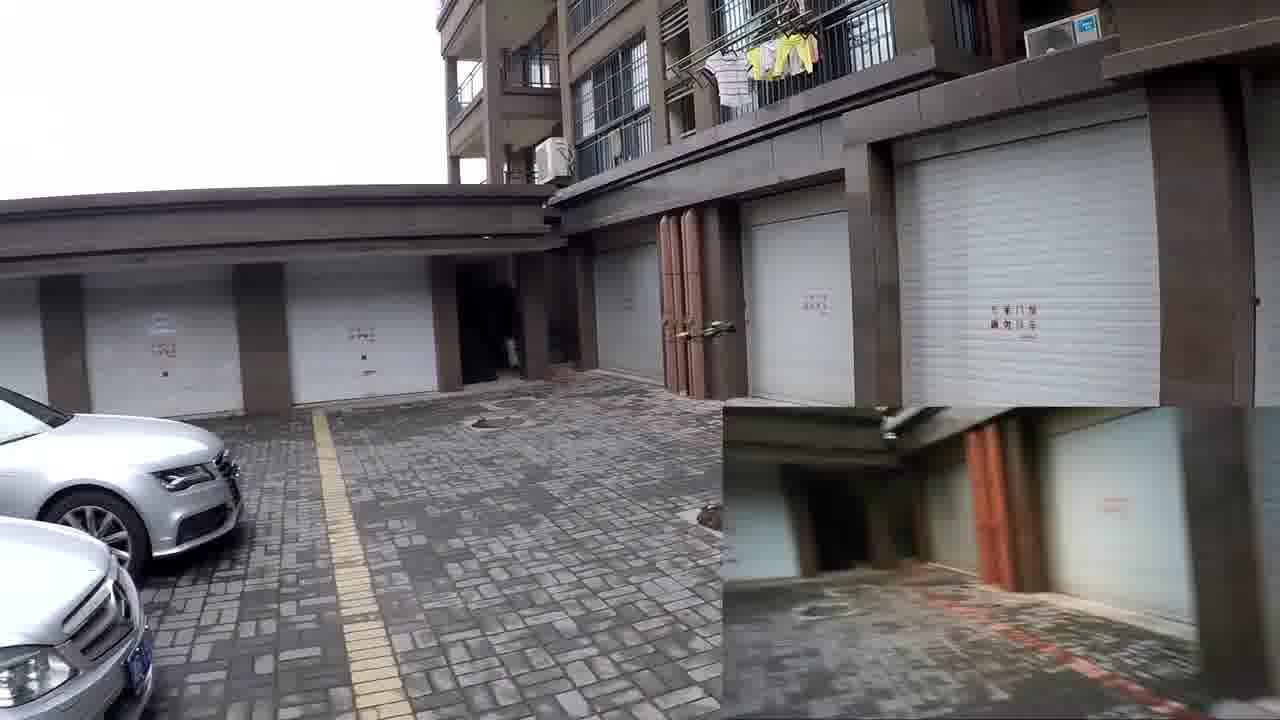drone: (656, 294, 750, 364)
